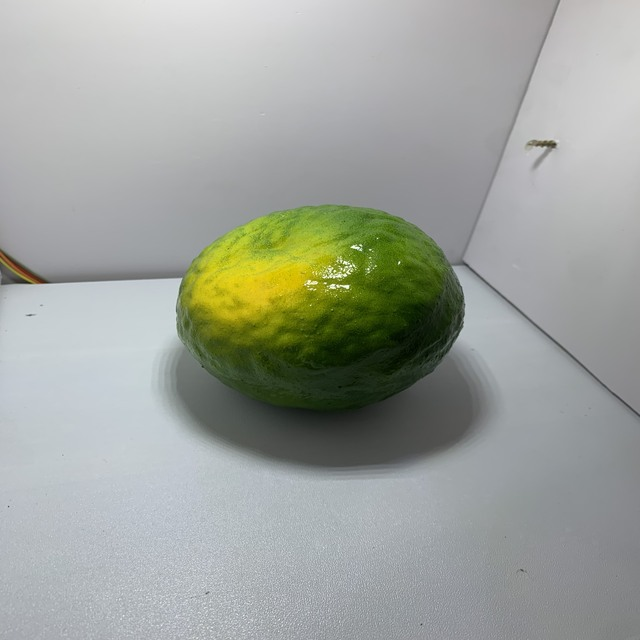Cam xanh: (171, 195, 476, 417)
